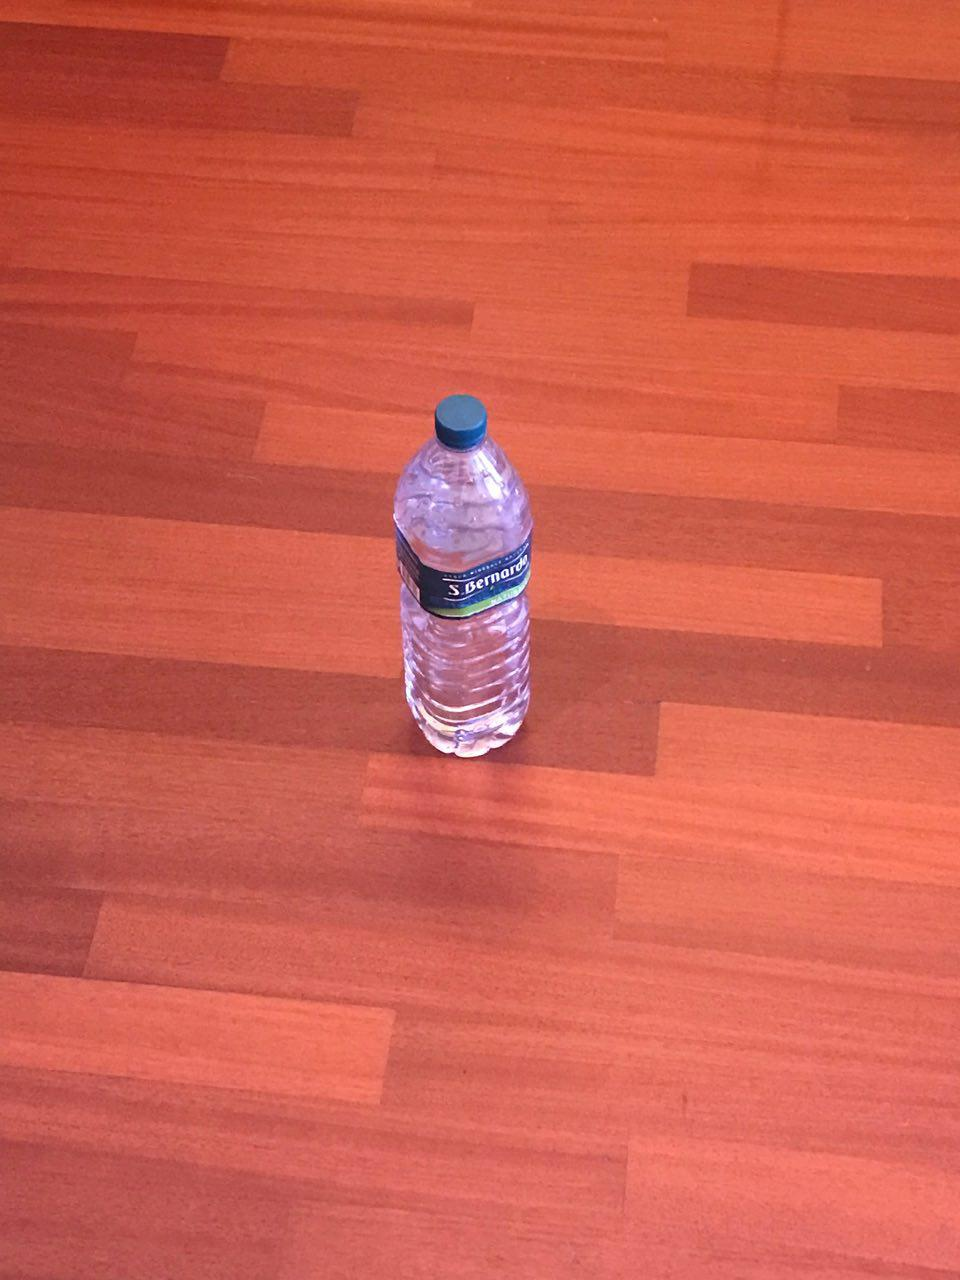san_bernardo: (393, 393, 534, 759)
